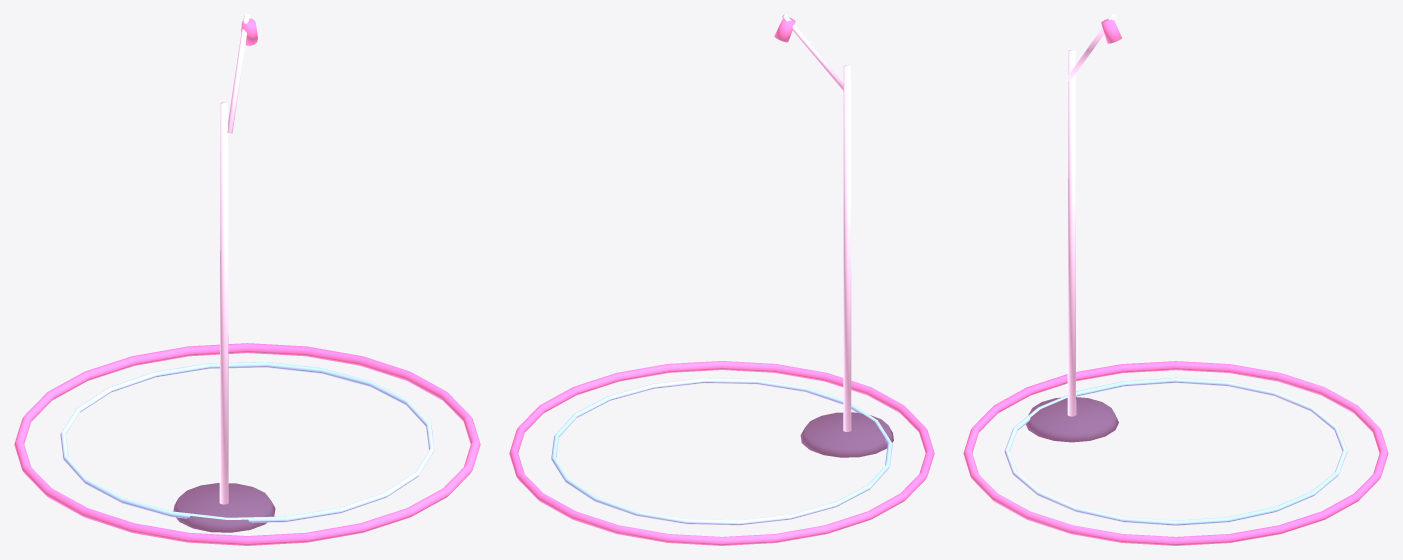
Rendered from concert-spotlight-mic-stand.glb.
The picture shows the model from 3 angles, left to right: view 1: azimuth 30°, elevation 25°; view 2: azimuth 150°, elevation 25°; view 3: azimuth 270°, elevation 25°; orthographic projection. The views are drawn at different scales.
Visible parts, largest first — view 1: TS_StageProp_concert-spotlight-mic-stand; view 2: TS_StageProp_concert-spotlight-mic-stand; view 3: TS_StageProp_concert-spotlight-mic-stand.
Boxes of the visible parts, x1,y1,x2,y2 form: TS_StageProp_concert-spotlight-mic-stand: (14,14,480,545); TS_StageProp_concert-spotlight-mic-stand: (509,14,934,545); TS_StageProp_concert-spotlight-mic-stand: (963,14,1388,545).
Size of the model in its own units: 1.31 by 1.45 by 1.31.
Materials: 1 (1 with a texture image).
